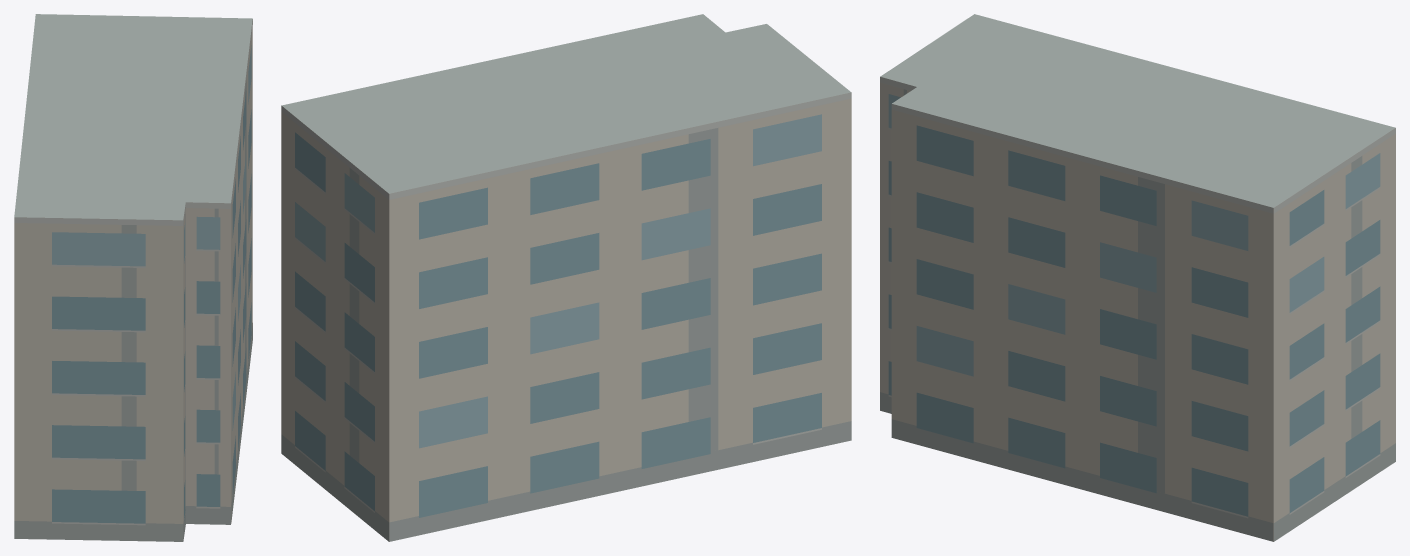
The model's file is survey-upis-32518124.glb.
3 views of the same model, side by side, from view 1: azimuth 30°, elevation 25°; view 2: azimuth 150°, elevation 25°; view 3: azimuth 270°, elevation 25° (orthographic). The views are drawn at different scales.
Visible parts, largest first — view 1: survey-upis-32518124.tmp; view 2: survey-upis-32518124.tmp; view 3: survey-upis-32518124.tmp.
Boxes of the visible parts, x1=… form: survey-upis-32518124.tmp: x1=14, y1=14, x2=252, y2=541; survey-upis-32518124.tmp: x1=281, y1=14, x2=851, y2=541; survey-upis-32518124.tmp: x1=880, y1=14, x2=1395, y2=541.
Size of the model in its own units: 17.19 by 13.8 by 19.32.
